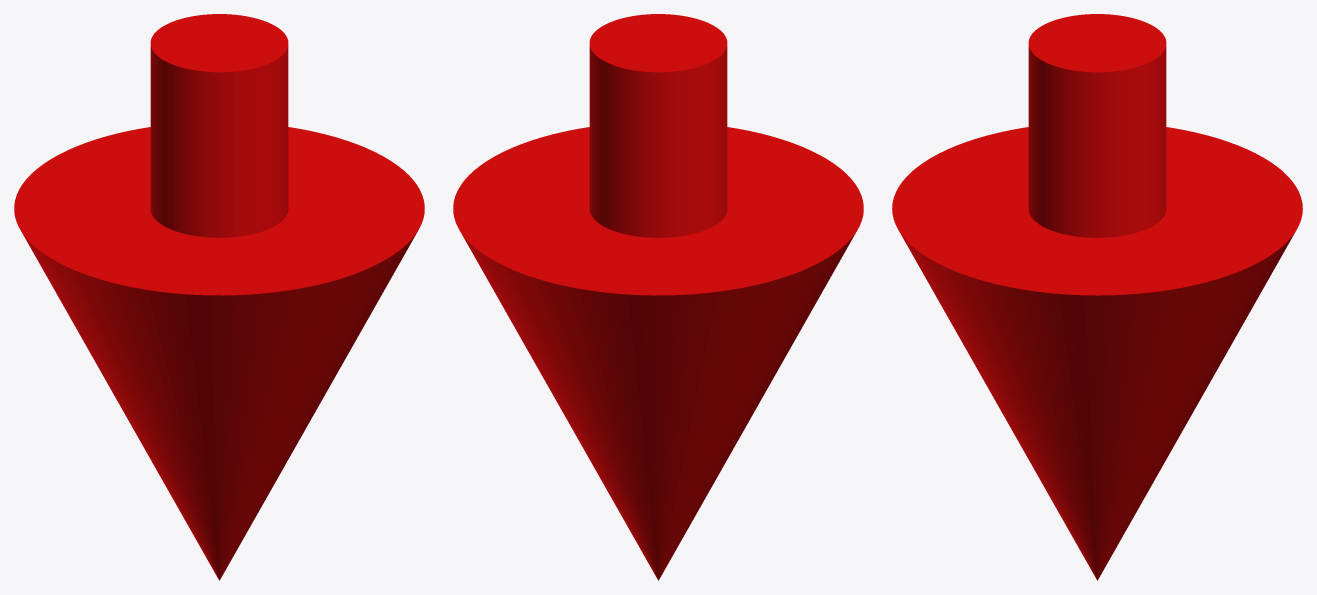
Rendered from pointer.fbx.
3 renders of one model, left to right at view 1: azimuth 30°, elevation 25°; view 2: azimuth 150°, elevation 25°; view 3: azimuth 270°, elevation 25°, orthographic.
Parts seen in each view (by area): view 1: Cylinder; view 2: Cylinder; view 3: Cylinder.
Boxes of the visible parts, x1=… form: Cylinder: x1=14, y1=14, x2=424, y2=580; Cylinder: x1=453, y1=14, x2=863, y2=580; Cylinder: x1=892, y1=14, x2=1302, y2=580.
Bounding box in the file's own units: 2 × 2.89 × 2.
